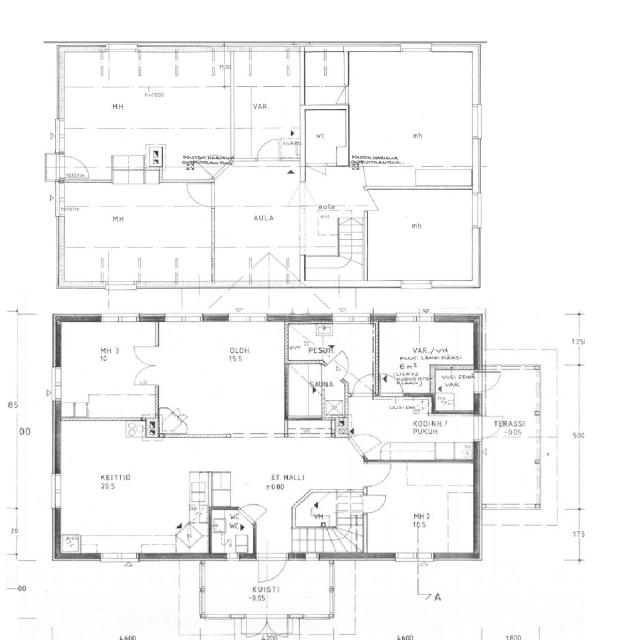door: (195, 145, 232, 179), (349, 154, 385, 187), (56, 156, 88, 178), (187, 184, 214, 206), (257, 138, 279, 161), (364, 190, 389, 210), (327, 86, 349, 104), (307, 163, 325, 183)
